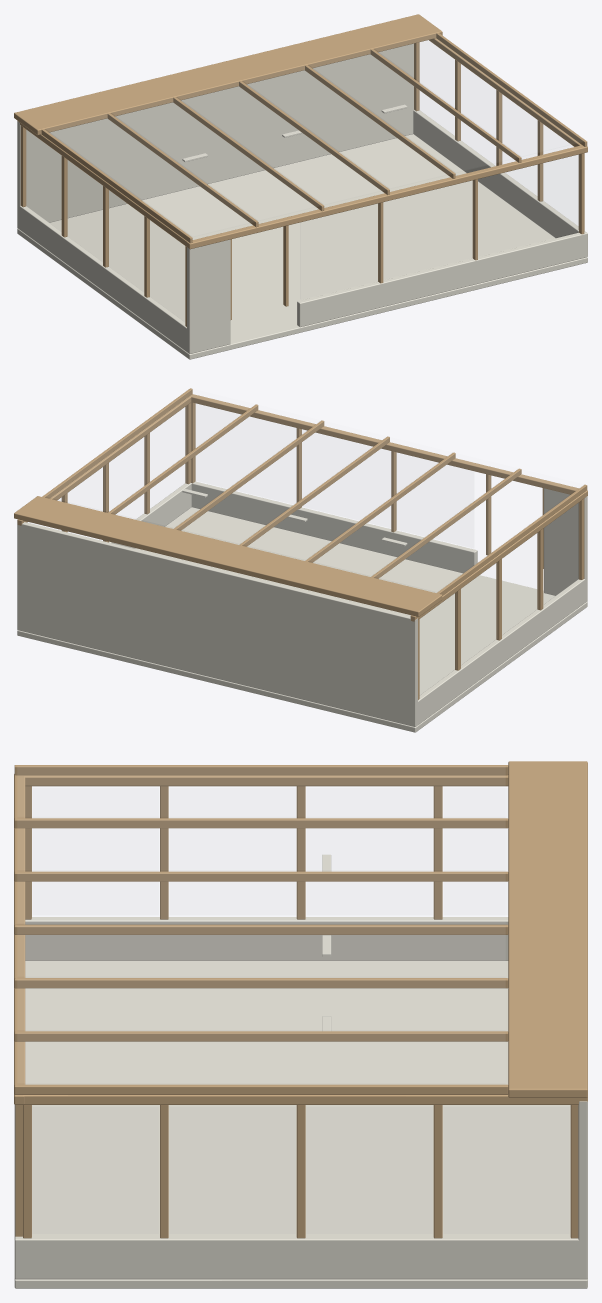
The model's file is public-library-and-reading-garden-public-library-and-r-c3da3e4f__30901.glb.
The picture shows the model from 3 angles, top to bottom: view 1: azimuth 30°, elevation 25°; view 2: azimuth 150°, elevation 25°; view 3: azimuth 270°, elevation 25°; orthographic projection. The views are drawn at different scales.
Parts seen in each view (by area): view 1: public-library-and-reading-garden-roofed-library-hall; view 2: public-library-and-reading-garden-roofed-library-hall; view 3: public-library-and-reading-garden-roofed-library-hall.
Boxes of the visible parts, left/top/right/bottom form: public-library-and-reading-garden-roofed-library-hall: left=14, top=14, right=587, bottom=359; public-library-and-reading-garden-roofed-library-hall: left=14, top=388, right=587, bottom=732; public-library-and-reading-garden-roofed-library-hall: left=14, top=761, right=587, bottom=1288.
Bounding box in the file's own units: 12.2 × 3.52 × 9.01.
